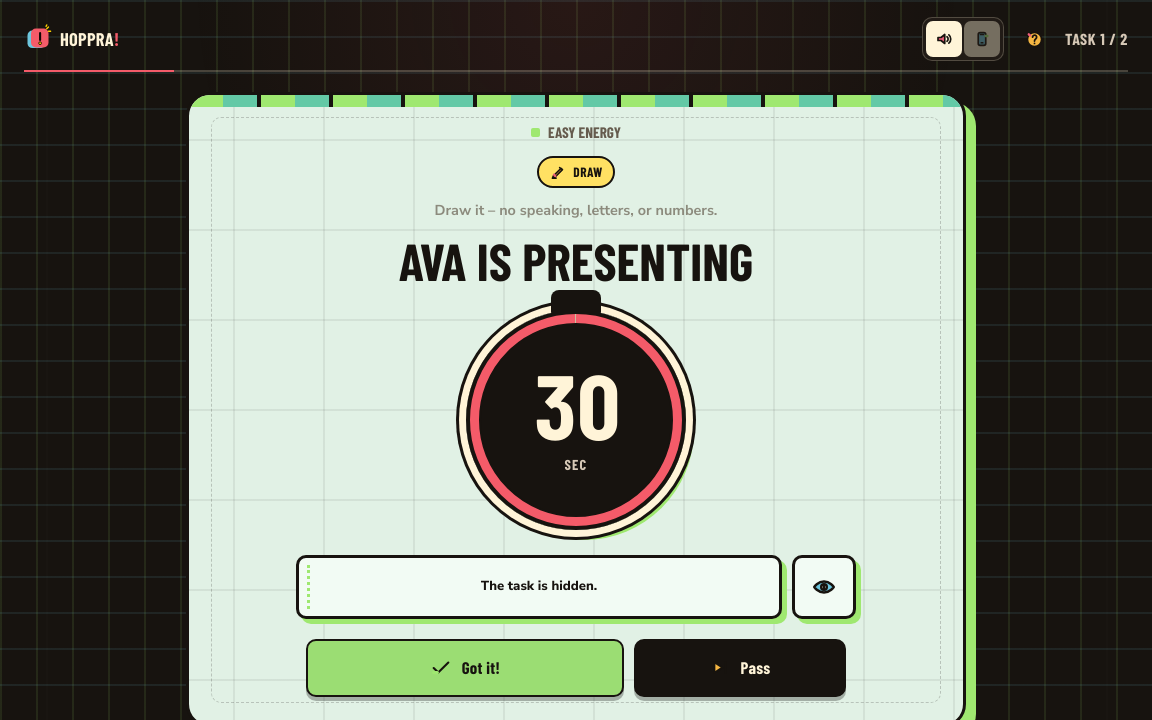
Scenario: GamePlay task reveal › uses a tap toggle and puts the answer in a separate live card
Press the mouse on the button named "Show task" at (824, 587), box x1=792 y1=555 x2=856 y2=619
Check: the text "apple" is not shown
Click the button named "Show task" at (824, 587), box x1=792 y1=555 x2=856 y2=619
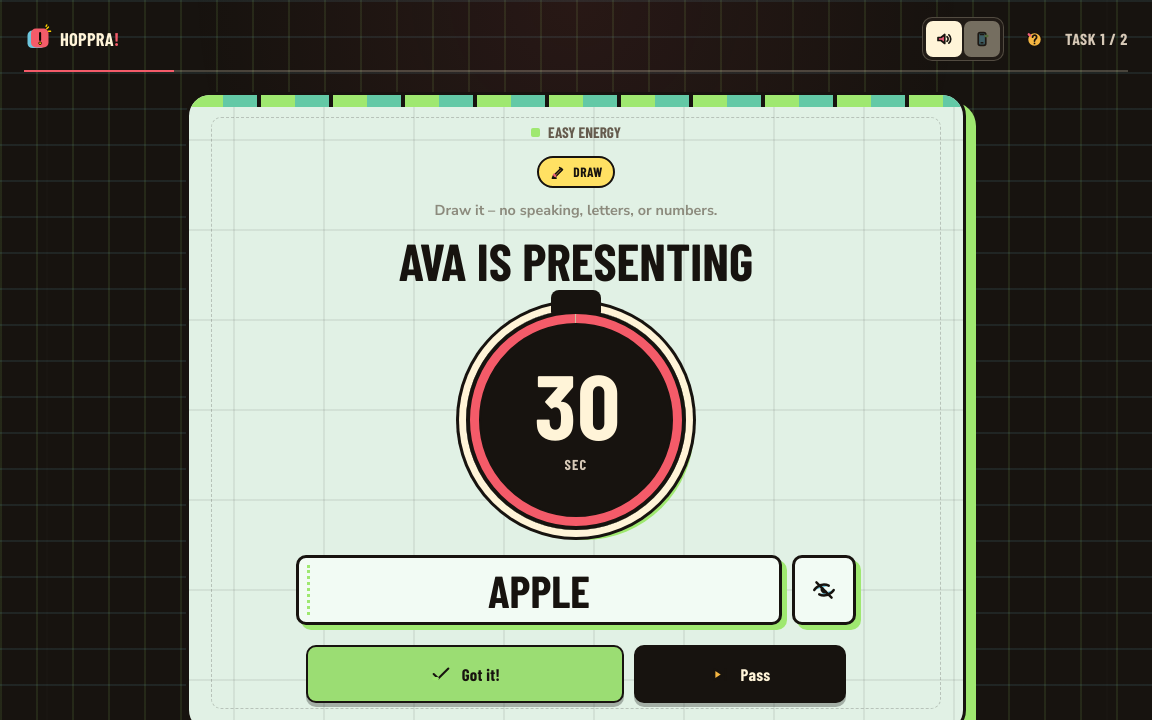
Check: the text "apple" is shown, box x1=488 y1=568 x2=590 y2=612
Click the button named "Show task" at (824, 590), box x1=792 y1=555 x2=856 y2=625
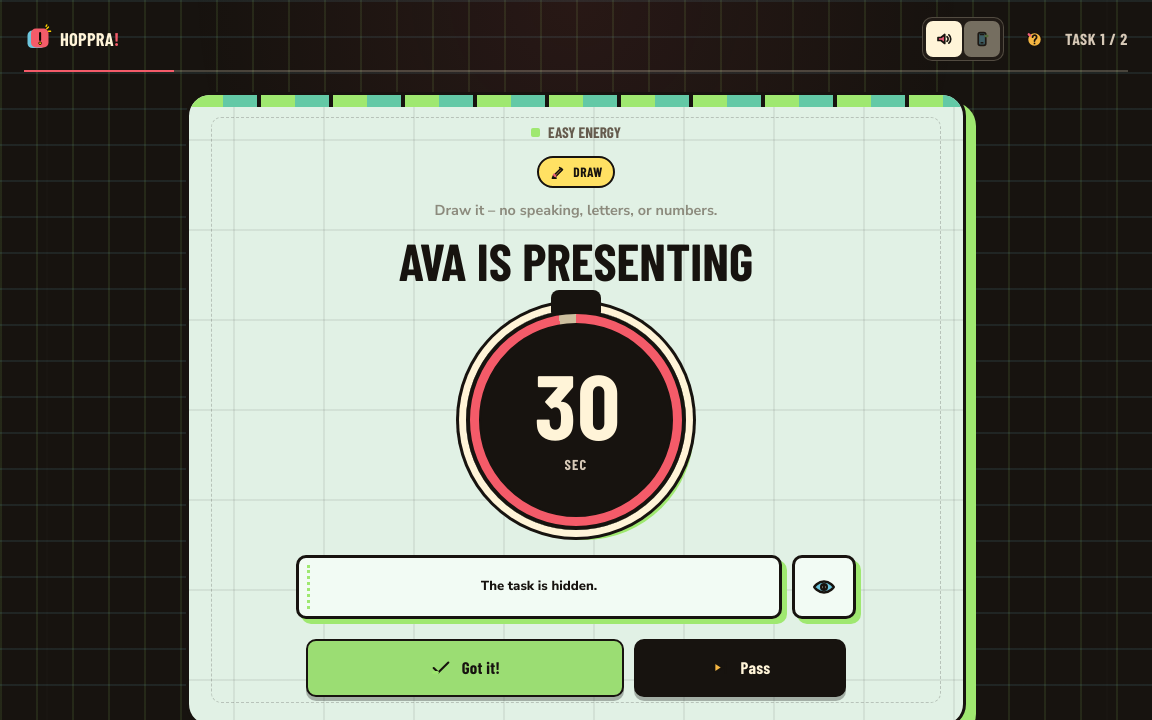
Check: the text "apple" is gone
